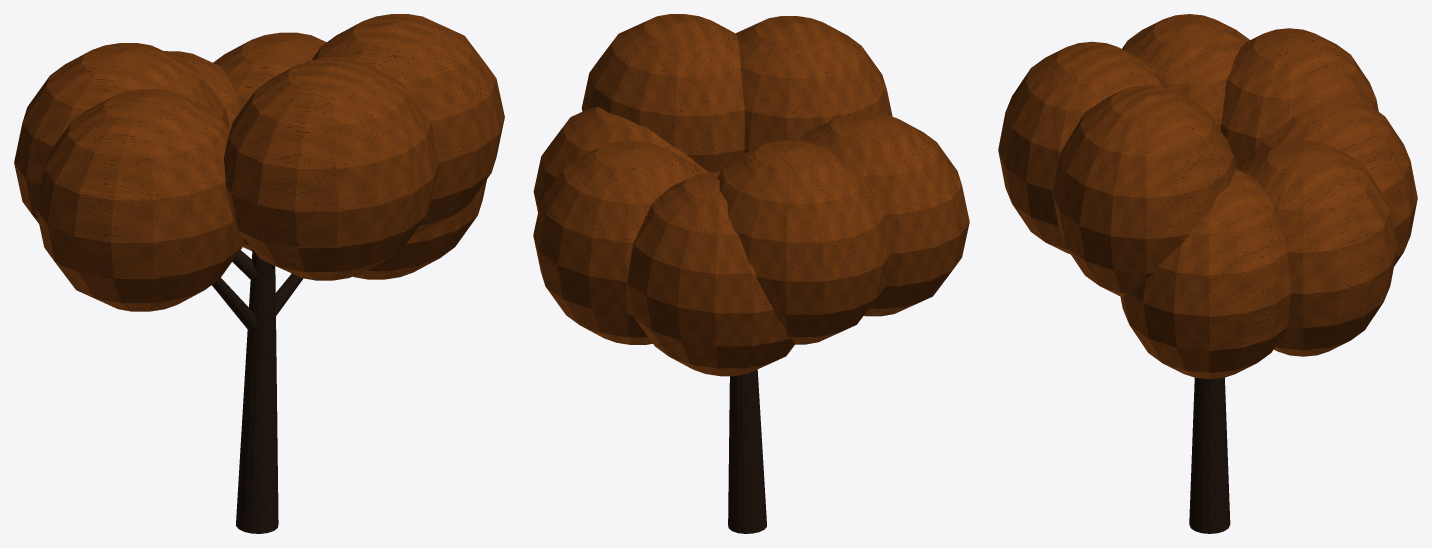
Rendered from PROP-D93C2EC22851_lod0.glb.
The picture shows the model from 3 angles, left to right: view 1: azimuth 30°, elevation 25°; view 2: azimuth 150°, elevation 25°; view 3: azimuth 270°, elevation 25°; orthographic projection. The views are drawn at different scales.
Parts seen in each view (by area): view 1: leaf_crown.084, trunk.076, branch.048; view 2: leaf_crown.084, trunk.076; view 3: leaf_crown.084, trunk.076.
Part boxes in pixels (x1,y1,x2,y2): leaf_crown.084: (14,14,504,311); trunk.076: (236,249,278,533); branch.048: (212,250,303,332); leaf_crown.084: (533,14,969,376); trunk.076: (728,369,766,533); leaf_crown.084: (998,14,1417,379); trunk.076: (1189,377,1230,533).
Size of the model in its own units: 5.7 by 6.17 by 4.9.
2 materials, 2 textured.
